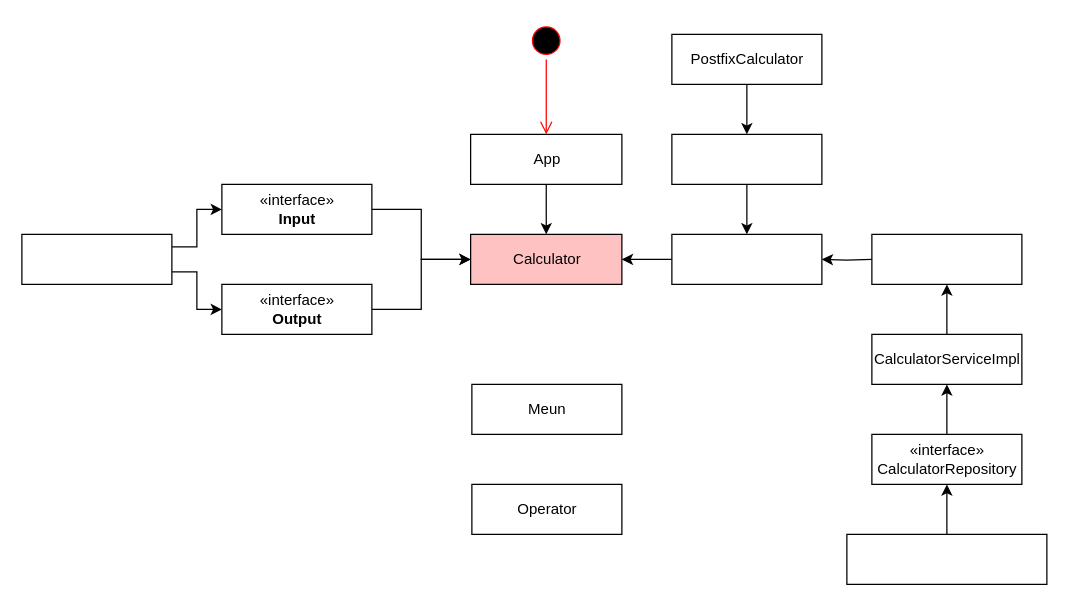
Some shapes in this 1069 by 606 pixel diagram are drawn without their labels. The centre of each missing label's shape, as x and y in pixels:
"CalculatorController" belongs at point 746,258.
"CalculatorRepositoryImpl" belongs at point 946,558.
"Console" belongs at point 96,258.
"PostfixTranslator" belongs at point 746,158.
"«interface» CalculatorService" belongs at point 946,258.
